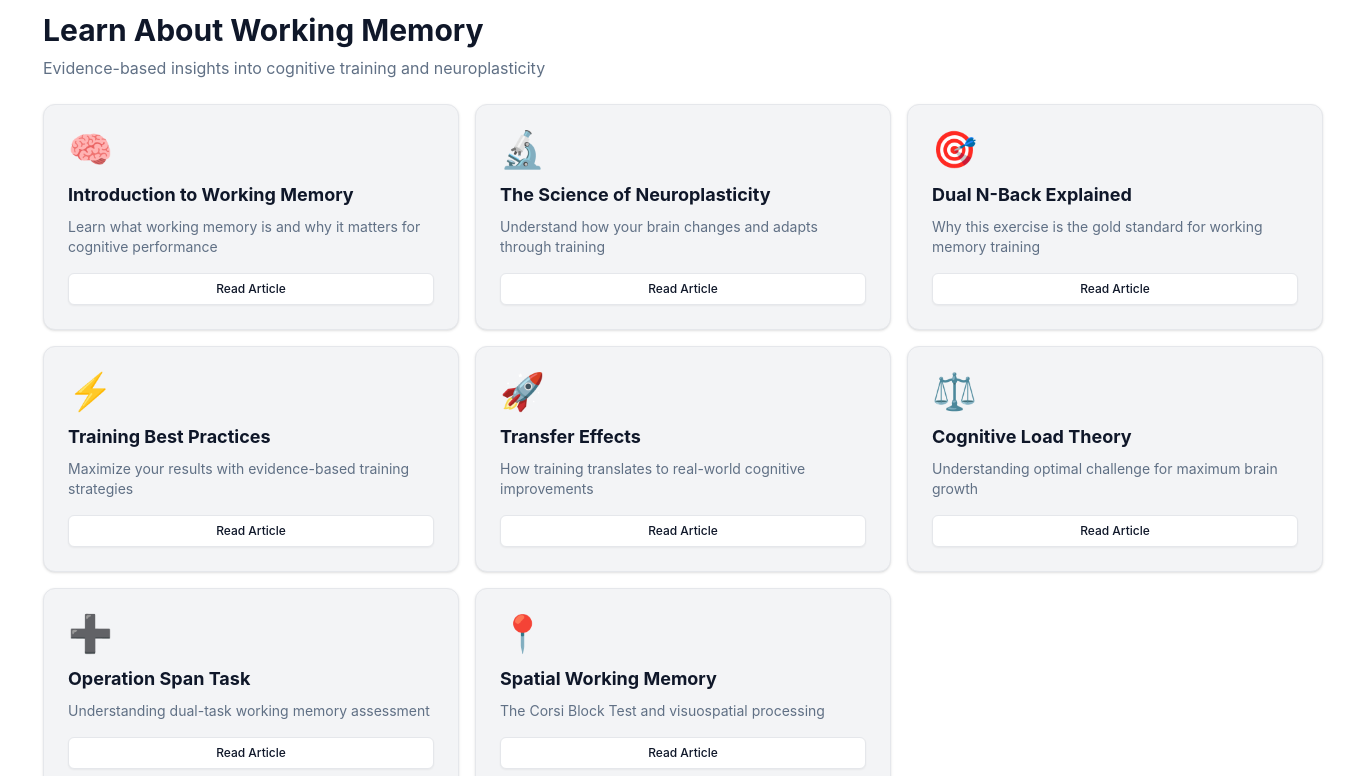
Scenario: EducationHub › should show back button when viewing article
Click the button "Read Article" below "Introduction to Working Memory".
click(251, 289)  # box [68,273,434,305]
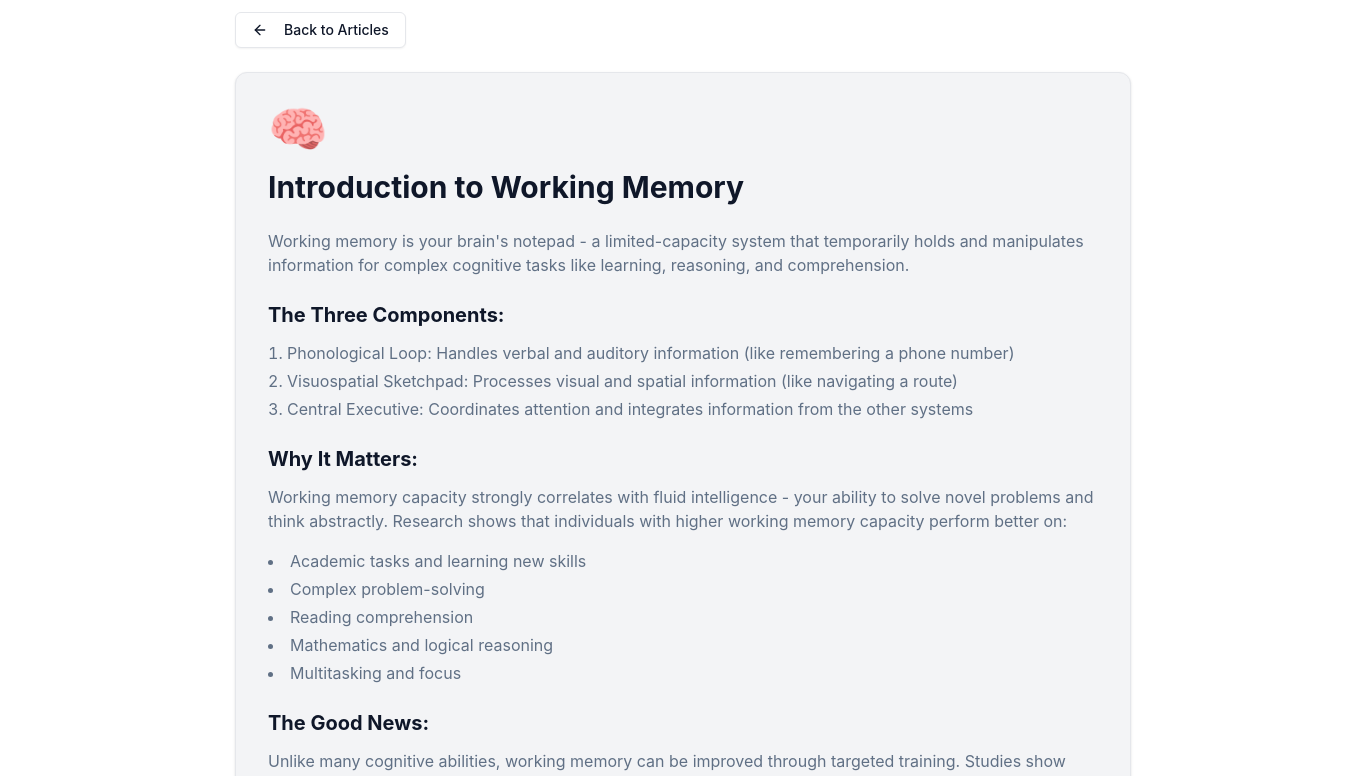
Expected: the button "Back to Articles" is shown, [235,12,406,48]
